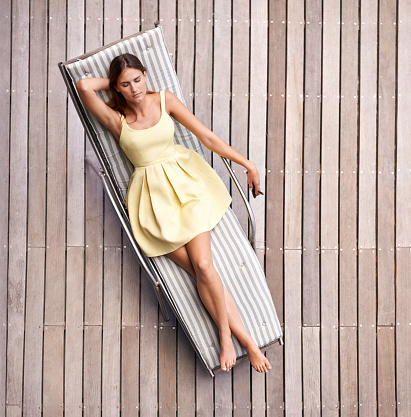deitado: (92, 22, 276, 384)
